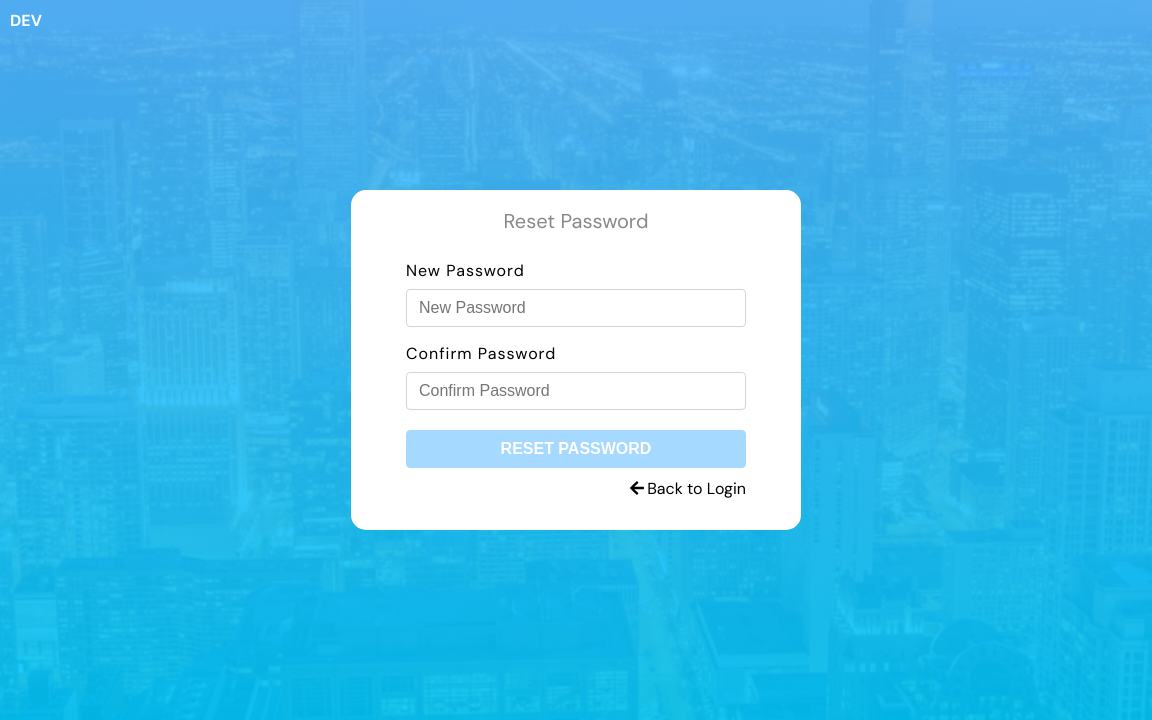
Reset Password Page › Sucess › Should display sucess alert for resetPassword updated
The image size is (1152, 720).
Type "yordev" into the password field labelled "New Password".
click(576, 308); type("yordev")  # box [406,289,746,327]
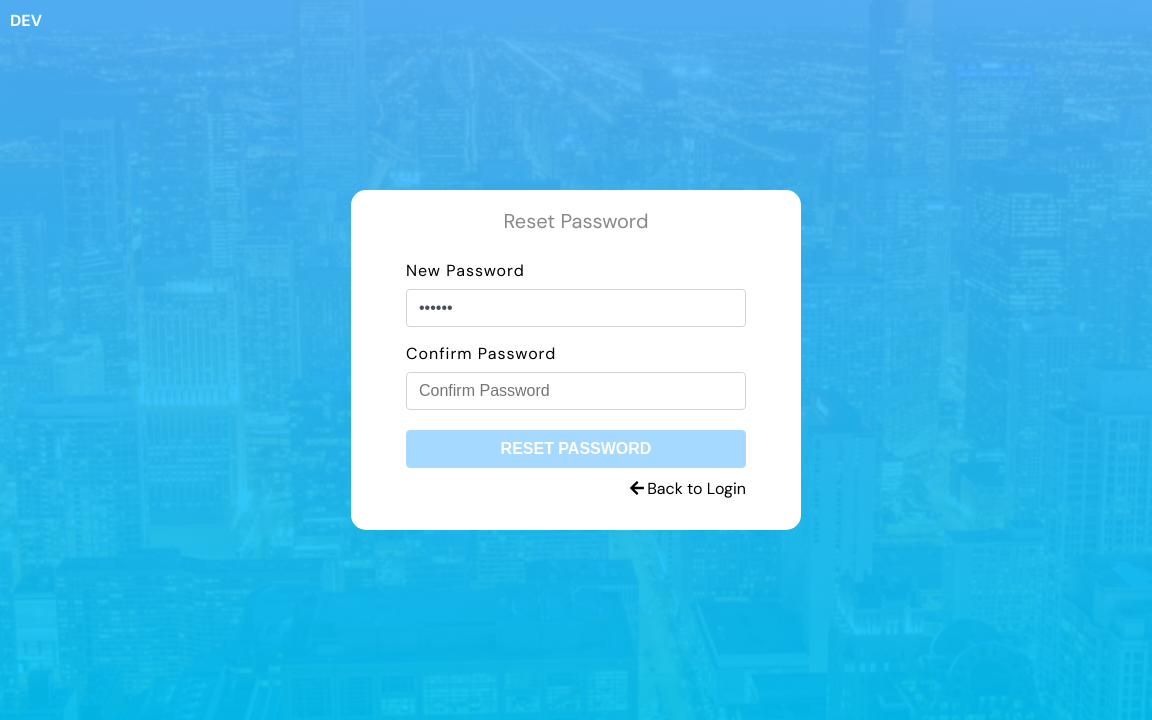
Type "yordev" into the password field labelled "Confirm Password".
click(576, 391); type("yordev")  # box [406,372,746,410]
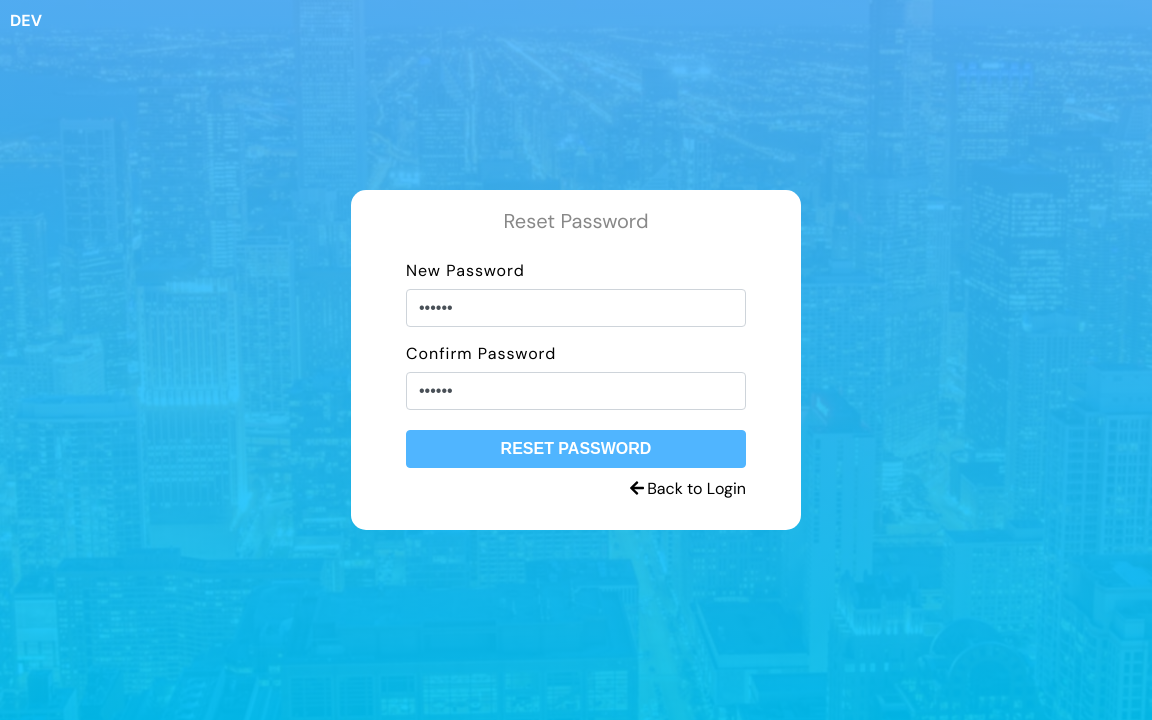
Click the button.
click(576, 449)  # box [406,430,746,468]
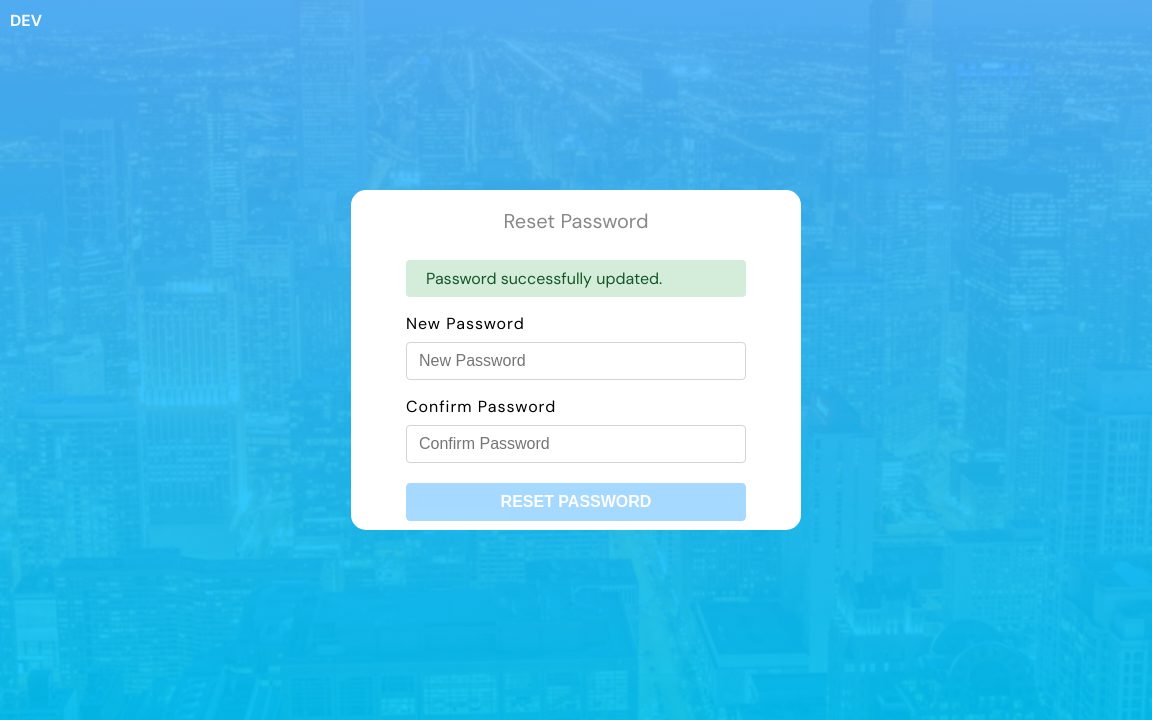
Check: the message "Password successfully updated." is shown, box [406,260,746,297]
Check: the message reads "Password successfully updated.", box [426,268,662,289]
